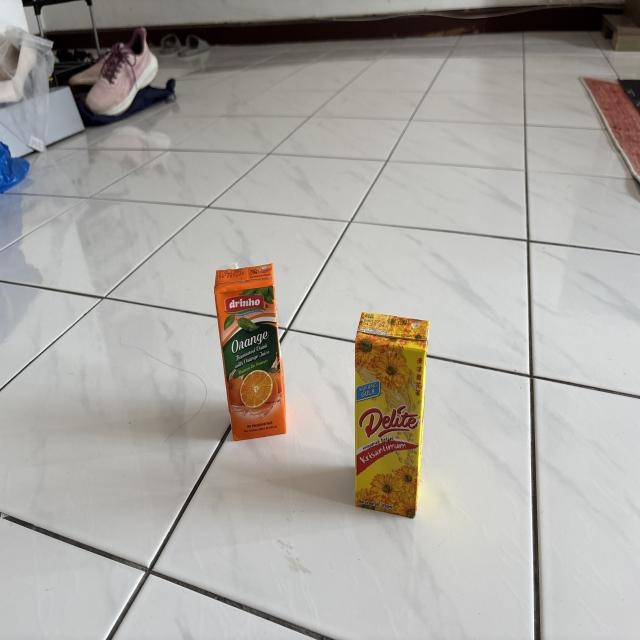drink_carton: (349, 303, 435, 529), (210, 258, 292, 448)
